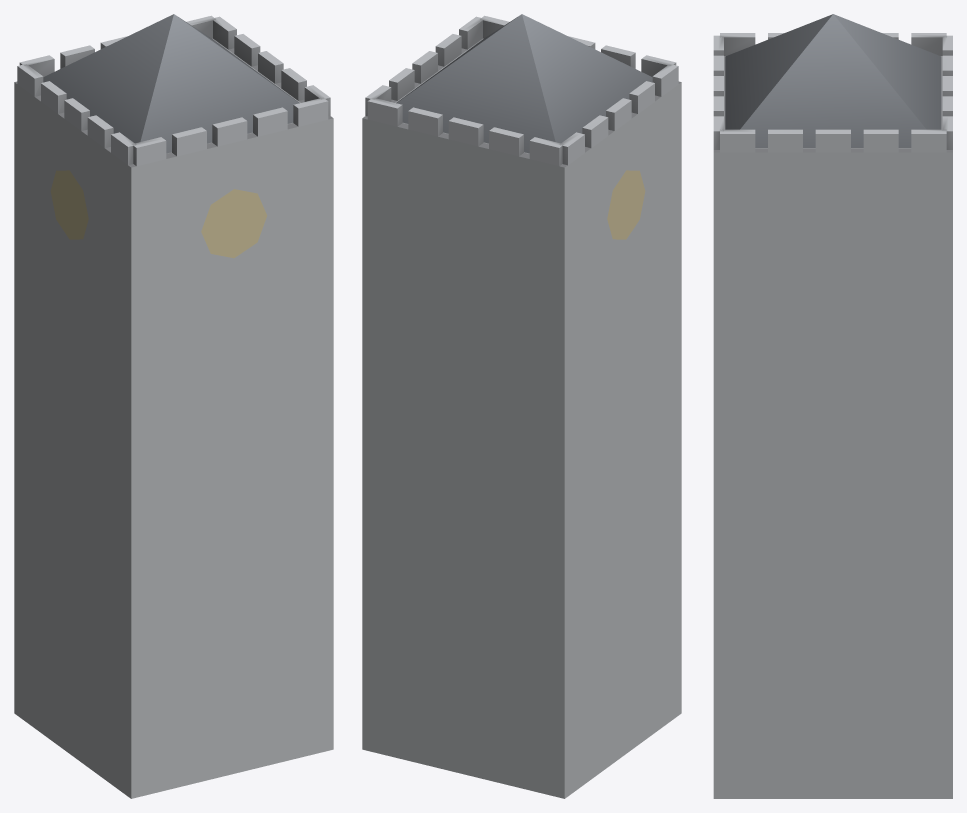
File: sg_clock_tower_l1.glb
The picture shows the model from 3 angles, left to right: view 1: azimuth 30°, elevation 25°; view 2: azimuth 150°, elevation 25°; view 3: azimuth 270°, elevation 25°; orthographic projection. The views are drawn at different scales.
Parts seen in each view (by area): view 1: sg_clock_tower_l1_SG_Far, sg_clock_tower_l1_SG_Slate, sg_clock_tower_l1_SG_Stone, sg_clock_tower_l1_SG_Brass; view 2: sg_clock_tower_l1_SG_Far, sg_clock_tower_l1_SG_Slate, sg_clock_tower_l1_SG_Stone, sg_clock_tower_l1_SG_Brass; view 3: sg_clock_tower_l1_SG_Far, sg_clock_tower_l1_SG_Slate, sg_clock_tower_l1_SG_Stone.
Boxes of the visible parts, x1,y1,x2,y2 form: sg_clock_tower_l1_SG_Far: (14,82,333,798); sg_clock_tower_l1_SG_Slate: (43,14,299,153); sg_clock_tower_l1_SG_Stone: (14,15,332,167); sg_clock_tower_l1_SG_Brass: (50,170,267,258); sg_clock_tower_l1_SG_Far: (362,82,681,798); sg_clock_tower_l1_SG_Slate: (396,14,652,153); sg_clock_tower_l1_SG_Stone: (363,15,681,167); sg_clock_tower_l1_SG_Brass: (607,170,645,239); sg_clock_tower_l1_SG_Far: (713,152,952,798); sg_clock_tower_l1_SG_Slate: (725,14,941,147); sg_clock_tower_l1_SG_Stone: (713,33,952,152).
Bounding box in the file's own units: 10.56 × 35.23 × 10.56.
